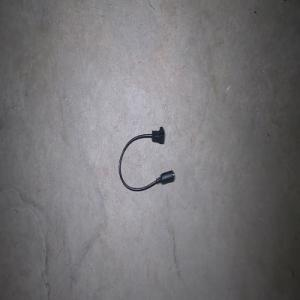Wire: (118, 127, 174, 191)
